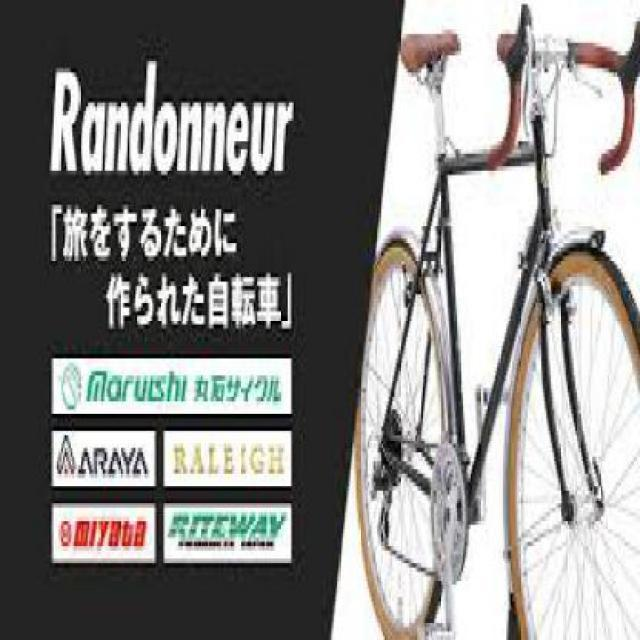bicycle: (354, 14, 640, 640)
